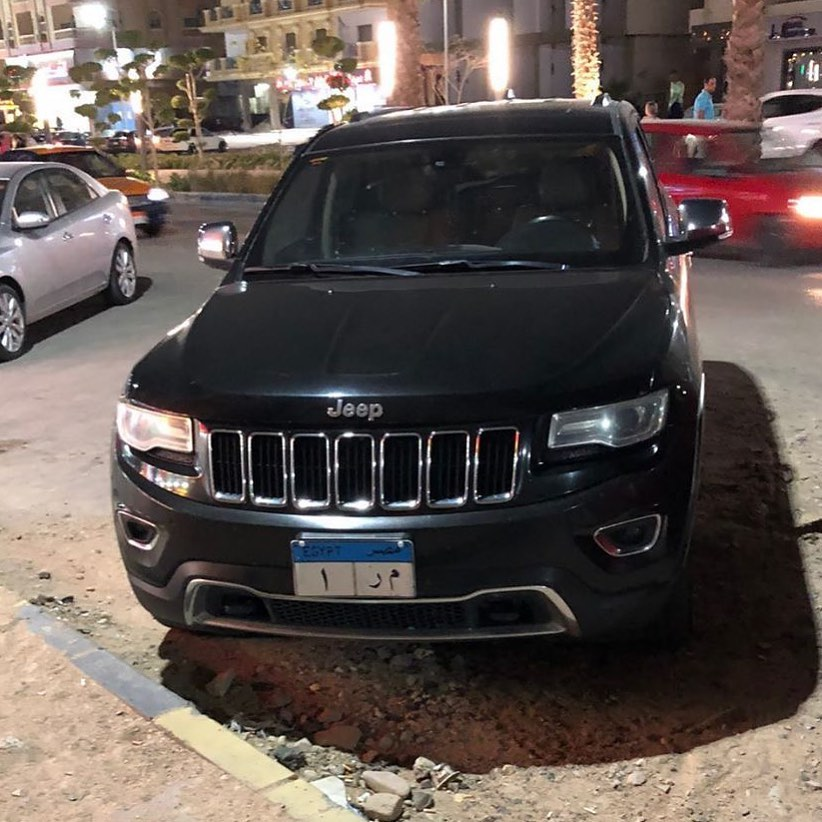carpl: (294, 556, 419, 597)
